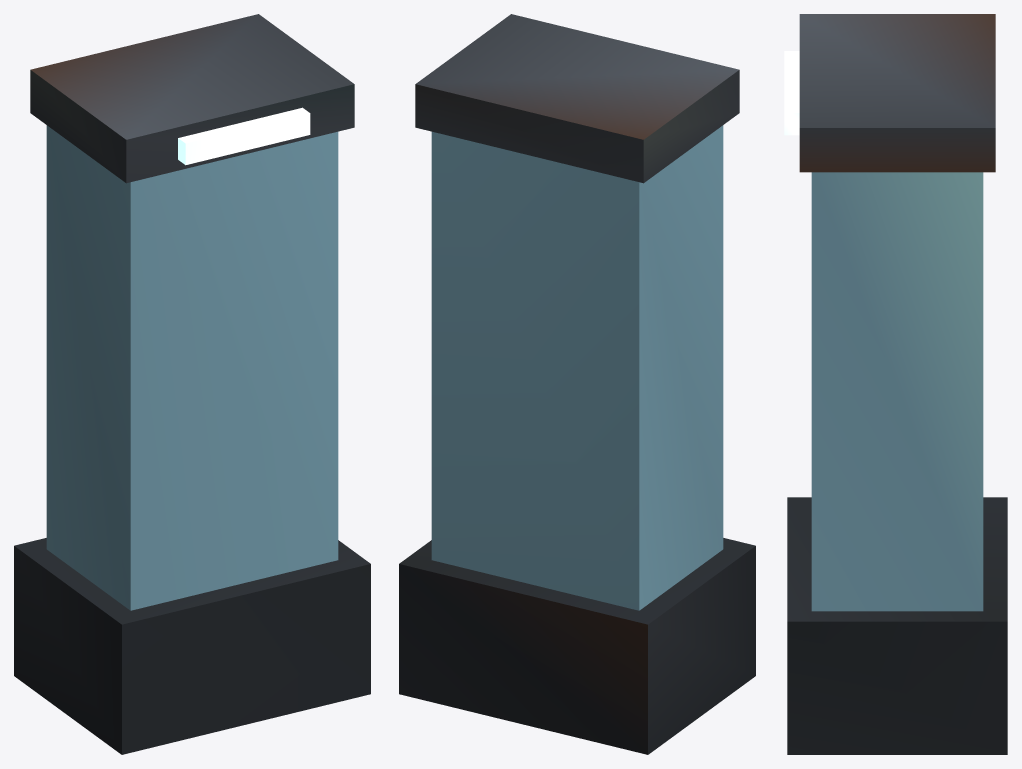
Rendered from cryopod.glb.
3 renders of one model, left to right at view 1: azimuth 30°, elevation 25°; view 2: azimuth 150°, elevation 25°; view 3: azimuth 270°, elevation 25°, orthographic. The views are drawn at different scales.
Parts seen in each view (by area): view 1: cryopod; view 2: cryopod; view 3: cryopod.
Boxes of the visible parts, x1,y1,x2,y2 form: cryopod: (14,14,370,754); cryopod: (399,14,755,754); cryopod: (784,14,1007,754).
Bounding box in the file's own units: 24 × 56 × 18.25.
